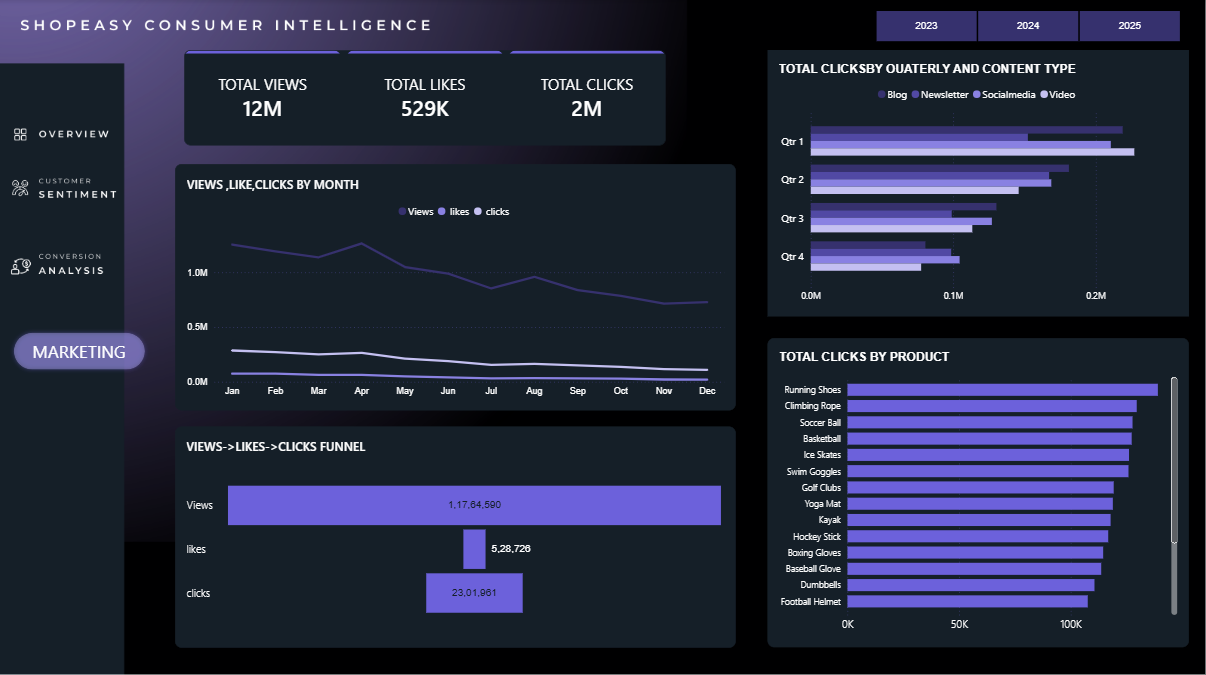

Layout of this report page (visuals, bound fields, positions):
{"tool":"powerbi","page":{"name":"Marketing Performance","canvas":[1600,900],"ordinal":3},"visuals":[{"type":"shape","box":[235,566.7,743.3,293.3],"z":0},{"type":"cardVisual","fields":{"Data":["Sum(engagement_data_cleaned.Views)","Sum(engagement_data_cleaned.likes)","Sum(engagement_data_cleaned.clicks)"]},"box":[246.7,68.3,638.3,126.7],"z":1000},{"type":"lineChart","title":"VIEWS ,LIKE,CLICKS BY MONTH","fields":{"Y":["Sum(engagement_data_cleaned.Views)","Sum(engagement_data_cleaned.likes)","Sum(engagement_data_cleaned.clicks)"],"Category":["Calendar.MonthNameShort"]},"box":[235,218.3,743.3,326.7],"z":2000},{"type":"funnel","title":"VIEWS->LIKES->CLICKS FUNNEL","fields":{"Y":["Sum(engagement_data_cleaned.Views)","Sum(engagement_data_cleaned.likes)","Sum(engagement_data_cleaned.clicks)"]},"box":[235,566.7,743.3,293.3],"z":3000},{"type":"barChart","title":"TOTAL CLICKS BY PRODUCT","fields":{"Y":["Sum(engagement_data_cleaned.clicks)"],"Category":["products.ProductName"]},"box":[1020,450,558.3,410],"z":4000},{"type":"clusteredBarChart","title":"TOTAL CLICKSBY OUATERLY AND CONTENT TYPE ","fields":{"Category":["Calendar.Date.Variation.Date Hierarchy.Quarter"],"Y":["Sum(engagement_data_cleaned.clicks)"],"Series":["engagement_data_cleaned.ContentType"]},"box":[1020,68.3,558.3,353.3],"z":5000},{"type":"shape","box":[0,416.7,158.3,150],"z":6000},{"type":"shape","box":[0,421.7,215,90],"z":7000},{"type":"pageNavigator","box":[0,205,183.3,100],"z":8000},{"type":"pageNavigator","box":[0,305,183.3,100],"z":9000},{"type":"pageNavigator","box":[0,131.7,183.3,100],"z":10000},{"type":"slicer","fields":{"Values":["Calendar.Date.Variation.Date Hierarchy.Year"]},"box":[1142.6,13.1,442.6,44.3],"z":11000}]}

Visuals, with their boxes on the page's 1600x900 design canvas (x1, y1, x2, y2). These are canvas units, not pixel positions in the 1206x675 screenshot, which may show the page scaled, cropped or inside an application window:
shape: detection(235, 567, 978, 860)
cardVisual - Sum(engagement_data_cleaned.Views) x Sum(engagement_data_cleaned.likes): detection(247, 68, 885, 195)
"VIEWS ,LIKE,CLICKS BY MONTH" lineChart: detection(235, 218, 978, 545)
"VIEWS->LIKES->CLICKS FUNNEL" funnel: detection(235, 567, 978, 860)
"TOTAL CLICKS BY PRODUCT" barChart: detection(1020, 450, 1578, 860)
"TOTAL CLICKSBY OUATERLY AND CONTENT TYPE " clusteredBarChart: detection(1020, 68, 1578, 422)
shape: detection(0, 417, 158, 567)
shape: detection(0, 422, 215, 512)
pageNavigator: detection(0, 205, 183, 305)
pageNavigator: detection(0, 305, 183, 405)
pageNavigator: detection(0, 132, 183, 232)
slicer - Calendar.Date.Variation.Date Hierarchy.Year: detection(1143, 13, 1585, 57)
